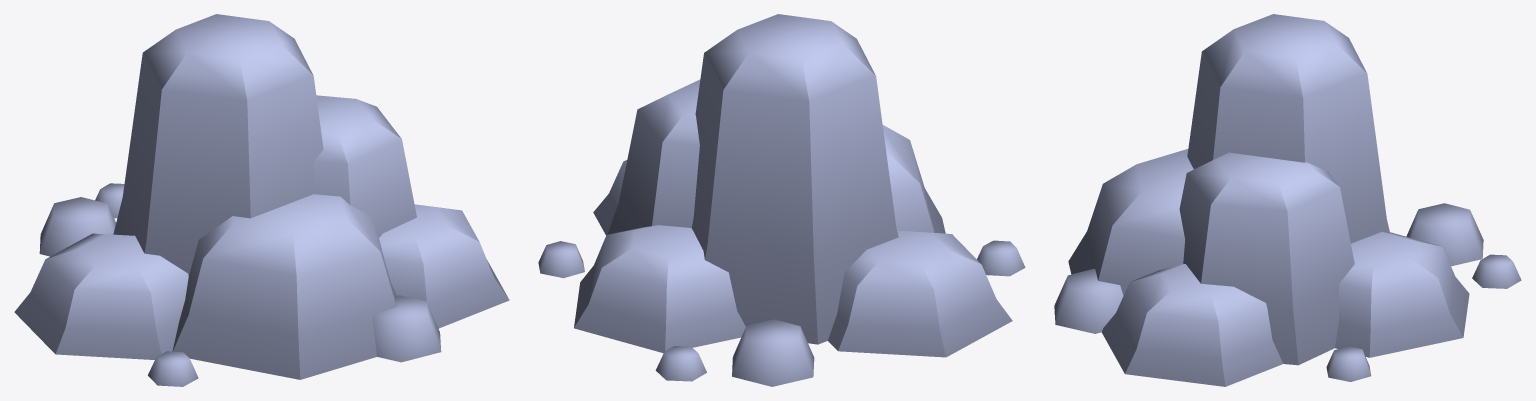
Rendered from rocks-tall.glb.
The picture shows the model from 3 angles, left to right: view 1: azimuth 30°, elevation 25°; view 2: azimuth 150°, elevation 25°; view 3: azimuth 270°, elevation 25°; orthographic projection. The views are drawn at different scales.
Parts seen in each view (by area): view 1: rocks-tall; view 2: rocks-tall; view 3: rocks-tall.
Boxes of the visible parts, x1,y1,x2,y2 form: rocks-tall: (14, 14, 509, 386); rocks-tall: (538, 14, 1025, 386); rocks-tall: (1054, 14, 1521, 386).
Bounding box in the file's own units: 20.66 × 11.75 × 20.4.
Materials: 1 (1 with a texture image).
